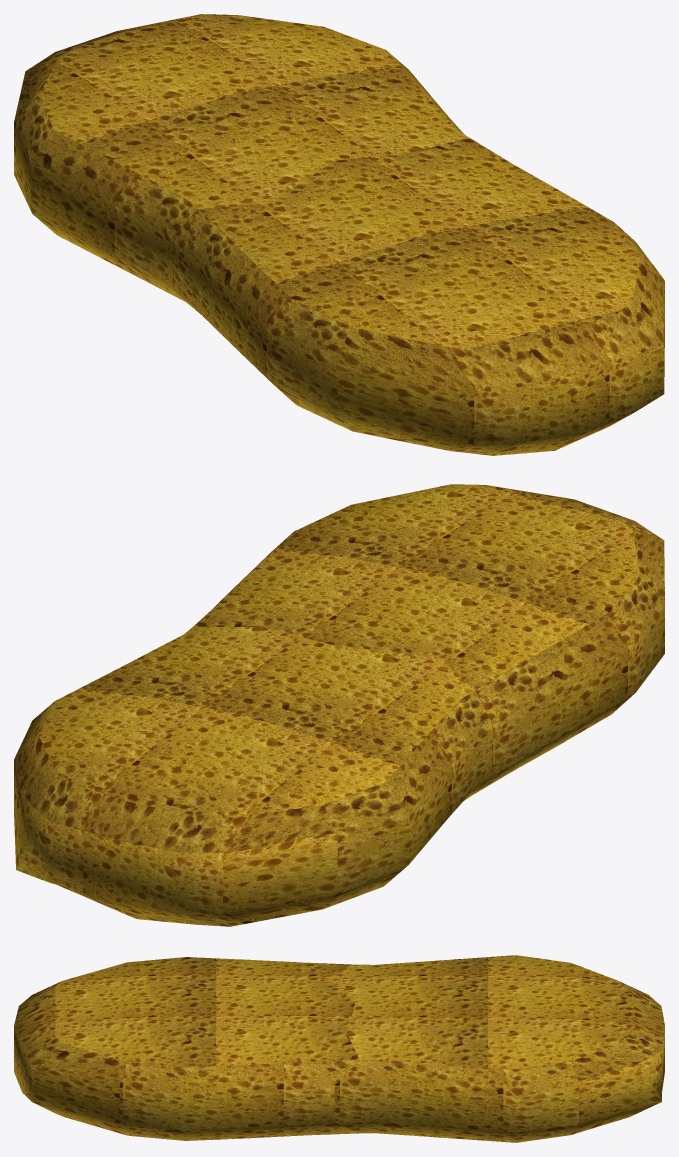
Rendered from sponge_move_ANIM.fbx.
3 views of the same model, one above another, from view 1: azimuth 30°, elevation 25°; view 2: azimuth 150°, elevation 25°; view 3: azimuth 270°, elevation 25° (orthographic). The views are drawn at different scales.
Parts seen in each view (by area): view 1: sponge_Rigged:spongepiece1, sponge_Rigged:sponpiece2; view 2: sponge_Rigged:sponpiece2, sponge_Rigged:spongepiece1; view 3: sponge_Rigged:spongepiece1, sponge_Rigged:sponpiece2.
Part boxes in pixels (x1,y1,x2,y2): sponge_Rigged:spongepiece1: (173,137,664,455); sponge_Rigged:sponpiece2: (14,14,468,309); sponge_Rigged:sponpiece2: (14,627,492,926); sponge_Rigged:spongepiece1: (193,484,664,794); sponge_Rigged:spongepiece1: (14,957,359,1140); sponge_Rigged:sponpiece2: (326,955,664,1142).
Bounding box in the file's own units: 8.79 × 2.92 × 18.64.
1 material, 1 textured.
